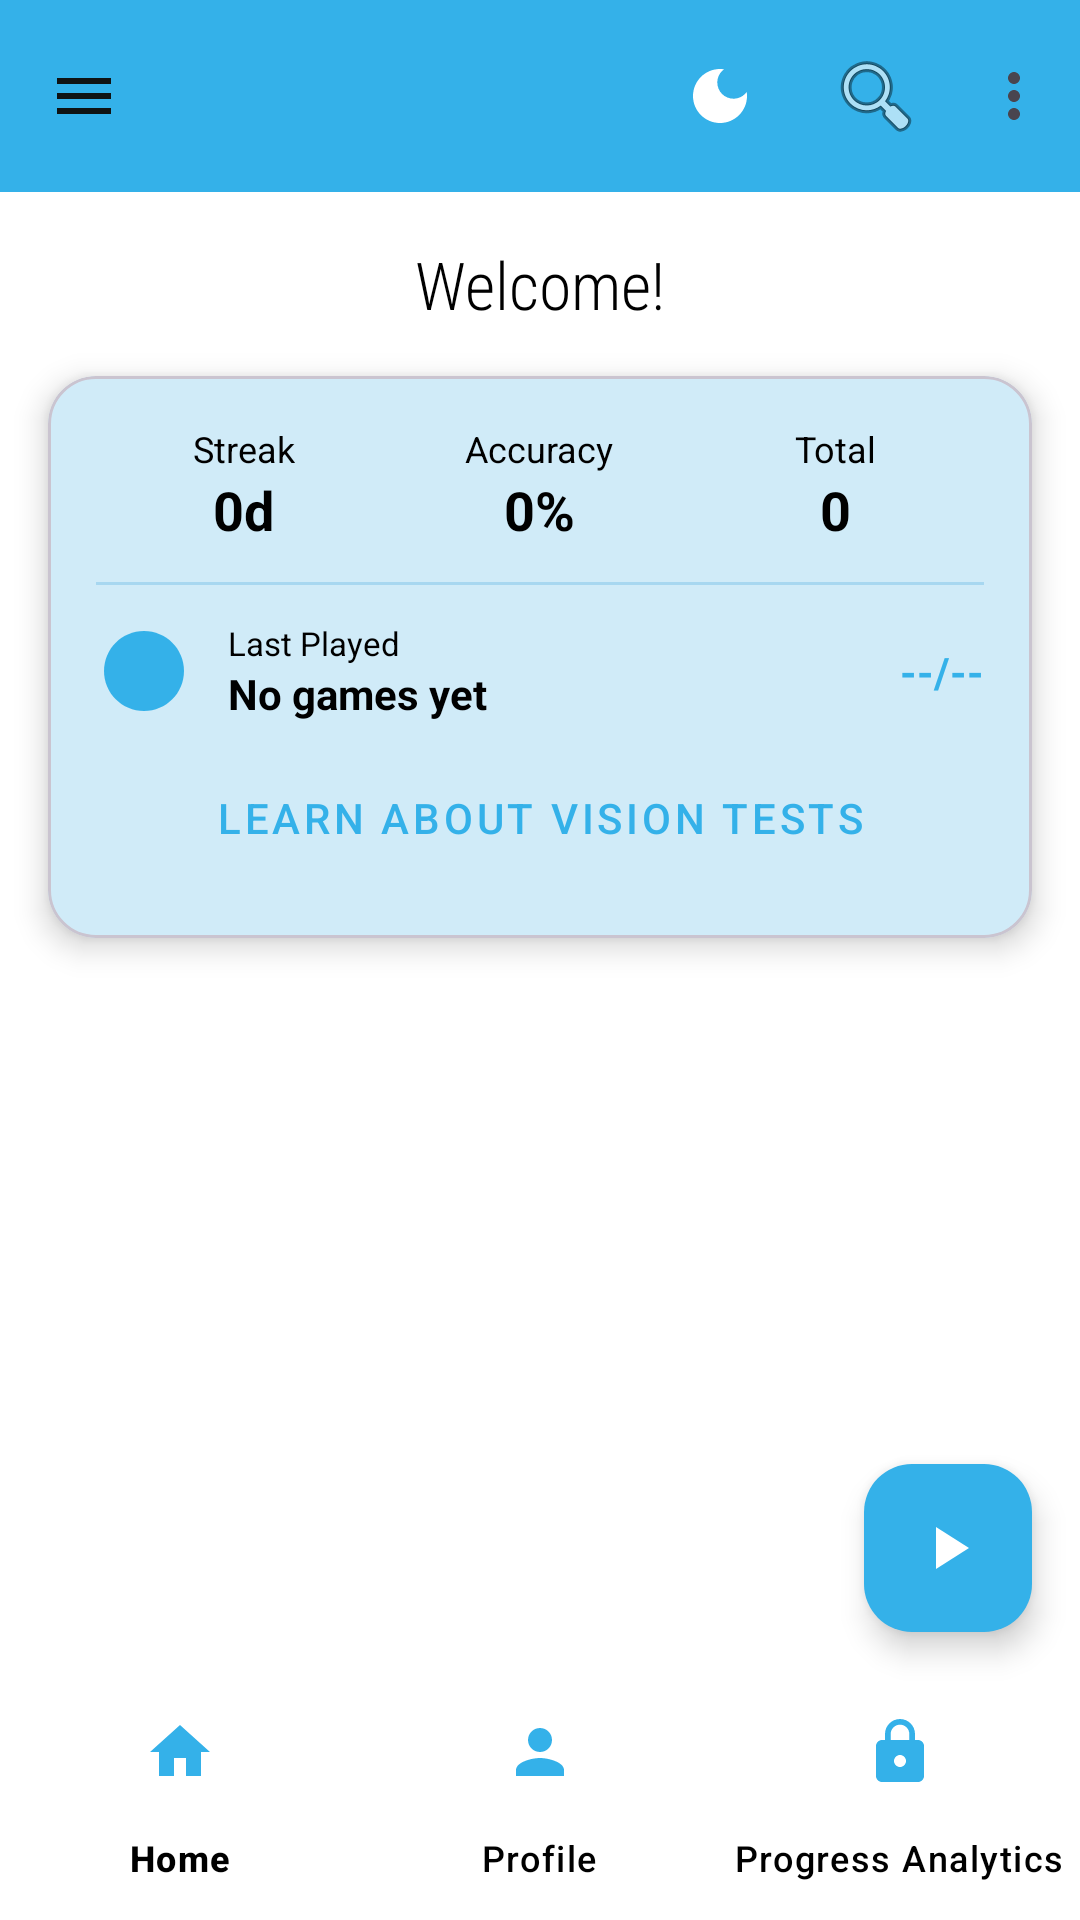

Named icons in this screenshot (1080px x 1920px) and their bounding boxes, bbox(x1, y1, x2, y2):
Quick Start: bbox(864, 1464, 1032, 1632)
